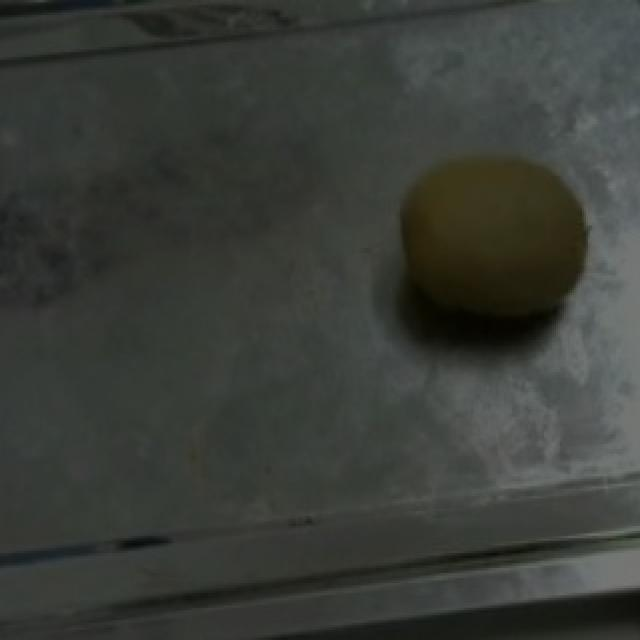Fruit: (380, 142, 602, 332)
